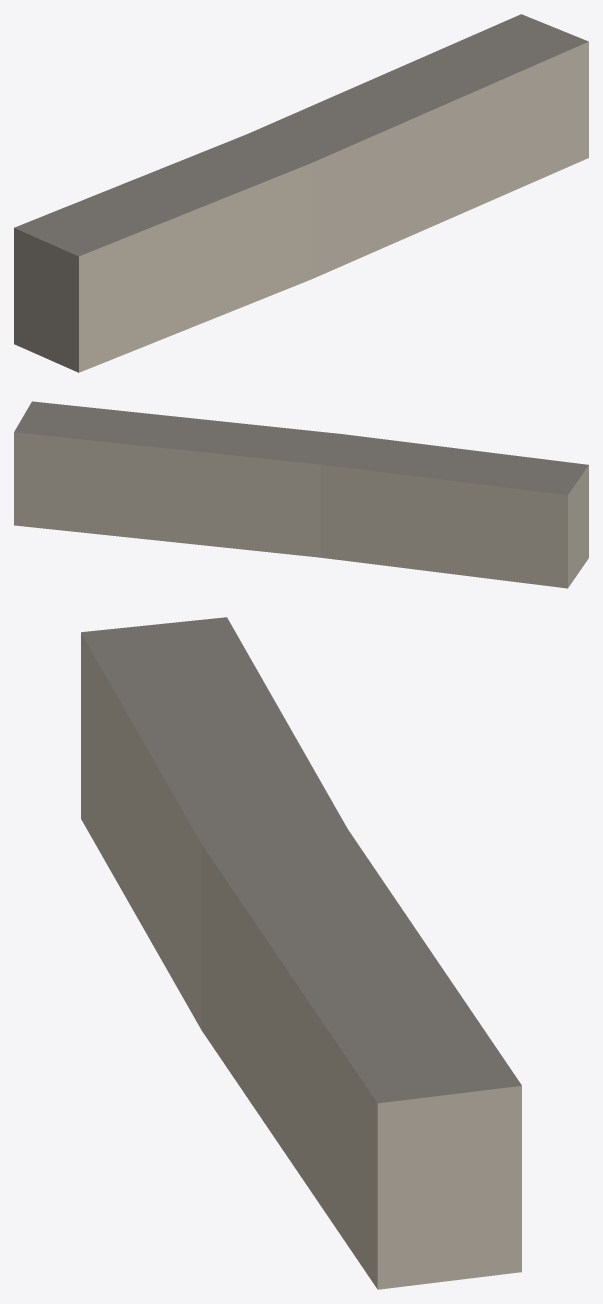
3 renders of one model, top to bottom at view 1: azimuth 30°, elevation 25°; view 2: azimuth 150°, elevation 25°; view 3: azimuth 270°, elevation 25°, orthographic. The views are drawn at different scales.
Parts seen in each view (by area): view 1: HP-w859457411; view 2: HP-w859457411; view 3: HP-w859457411.
Part boxes in pixels (x1,y1,x2,y2): HP-w859457411: (14,14,588,372); HP-w859457411: (14,401,588,588); HP-w859457411: (81,617,521,1289).
Bounding box in the file's own units: 101 × 18 × 38.63.
